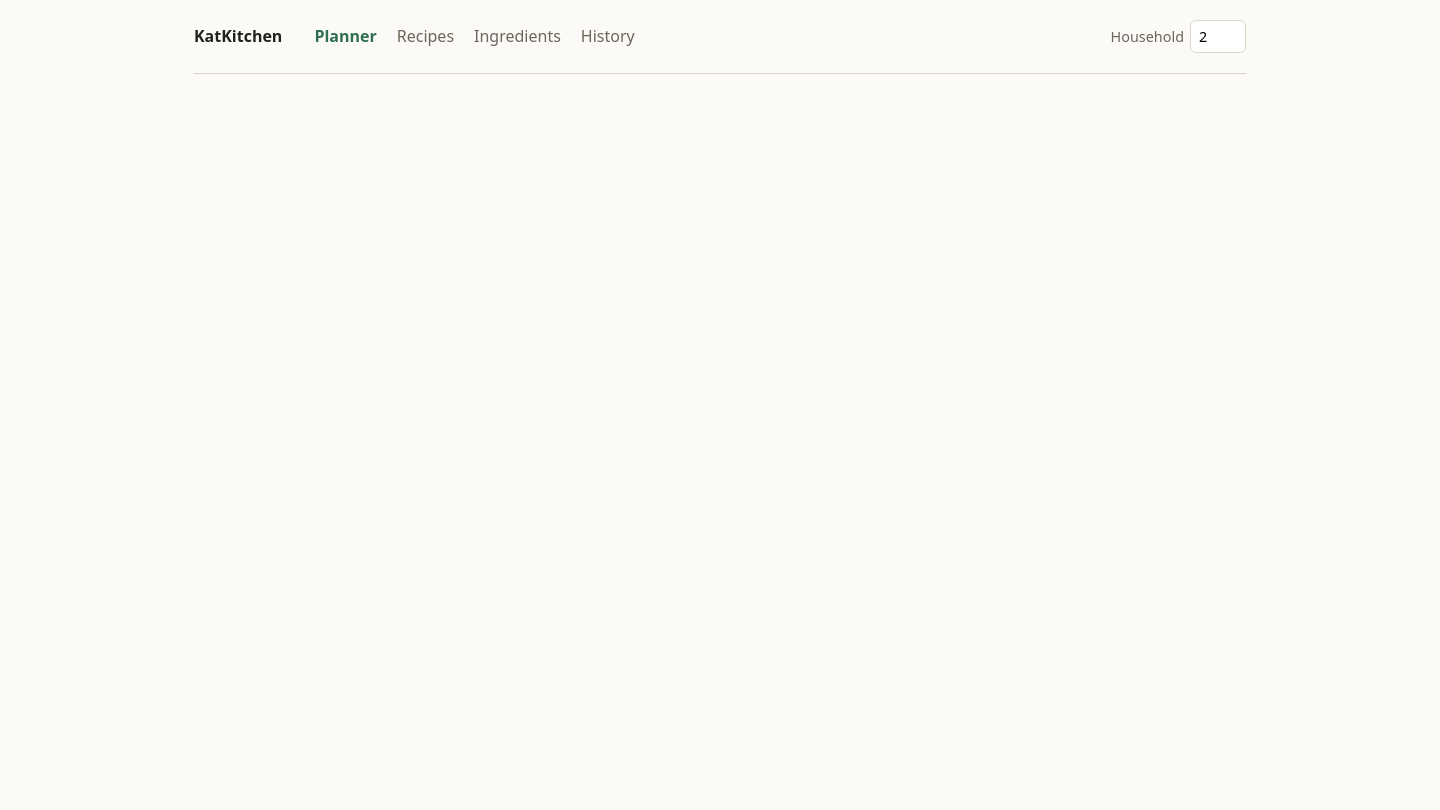
Test: Layout household size › surfaces a rejected save and puts the server value back
Replace the text in the number field labelled "Household" with "9" at (1218, 36), box [1190,20,1246,53]
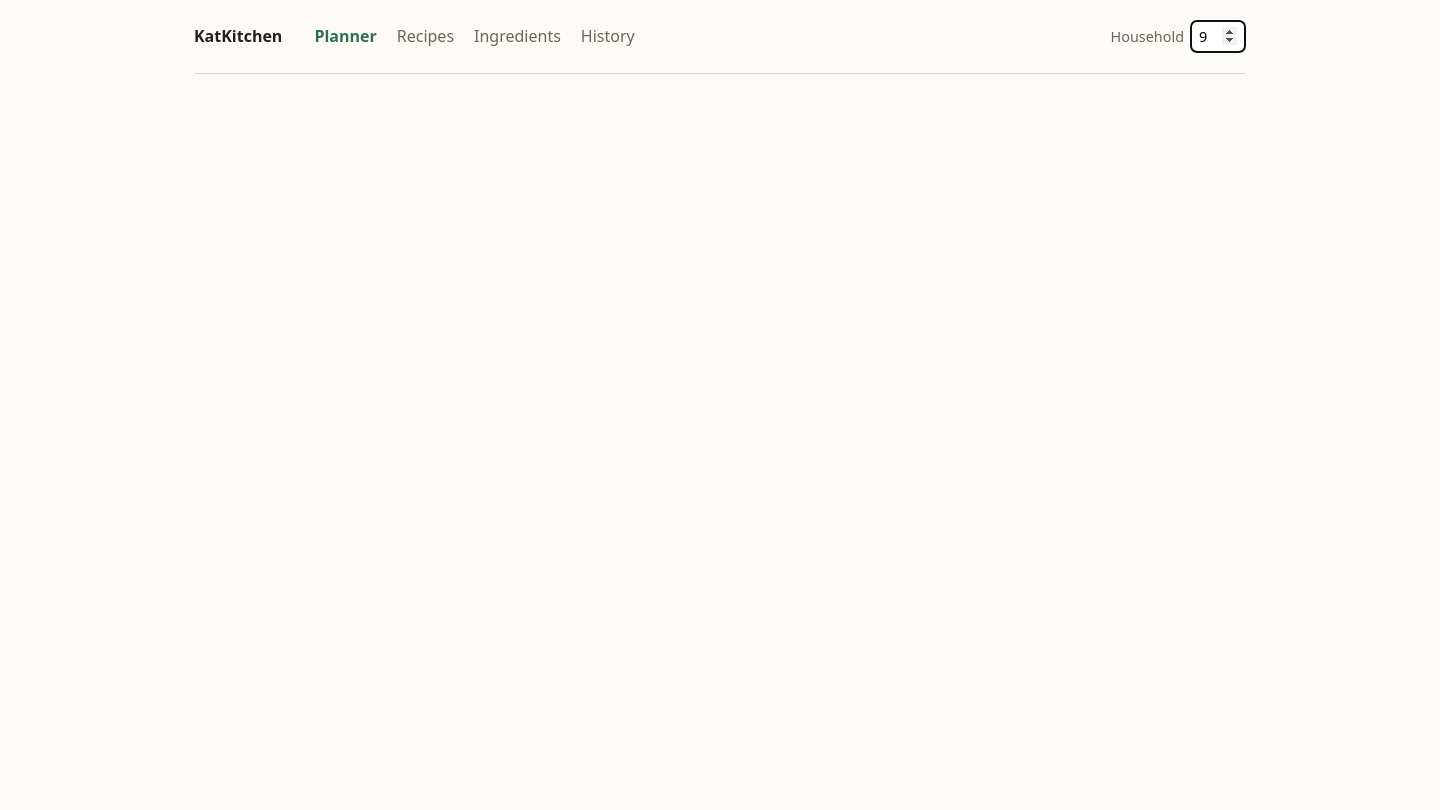
Press Tab
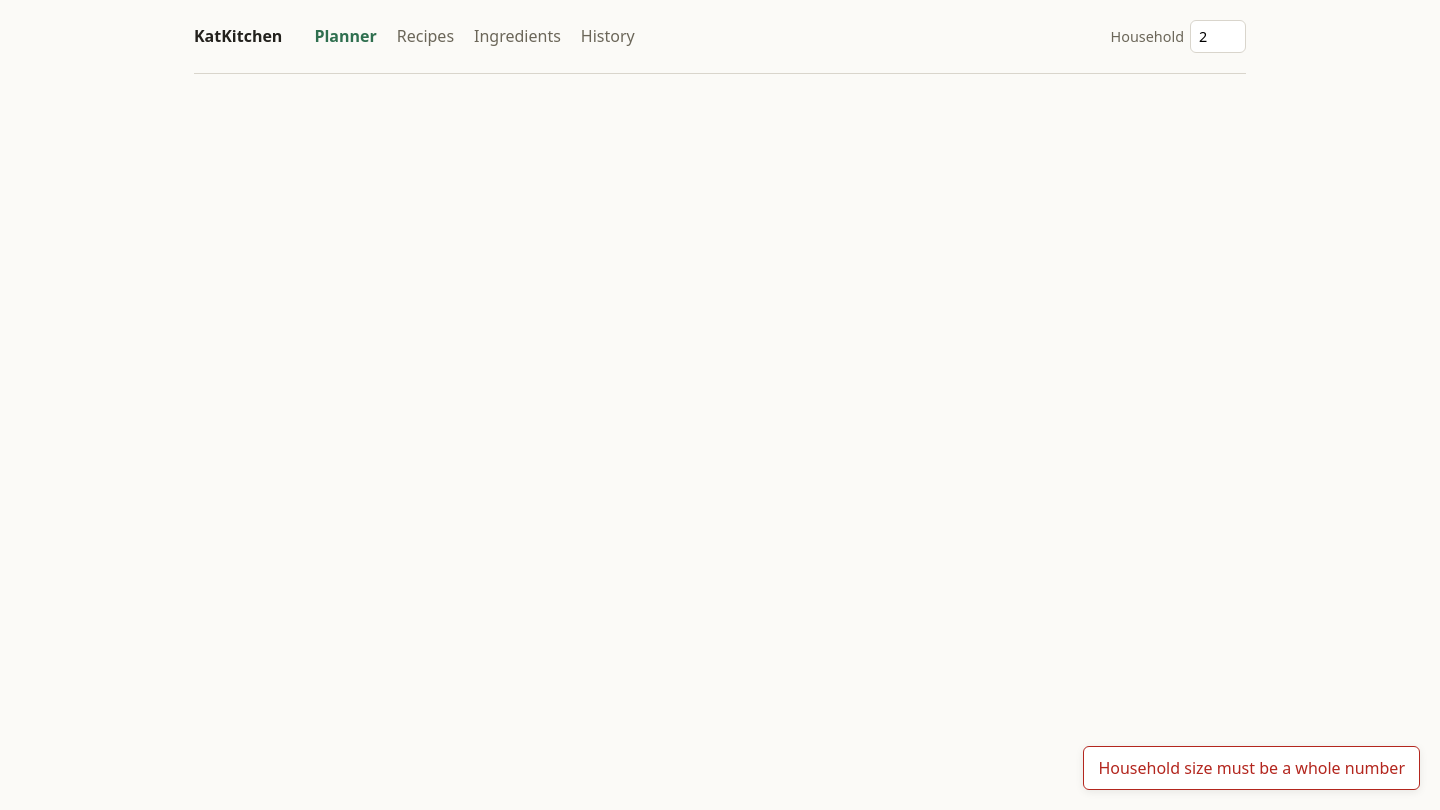
Now the text "Household size must be a whole number" is shown, box [1083,746,1420,790]
Now the number field labelled "Household" holds "2", box [1190,20,1246,53]
